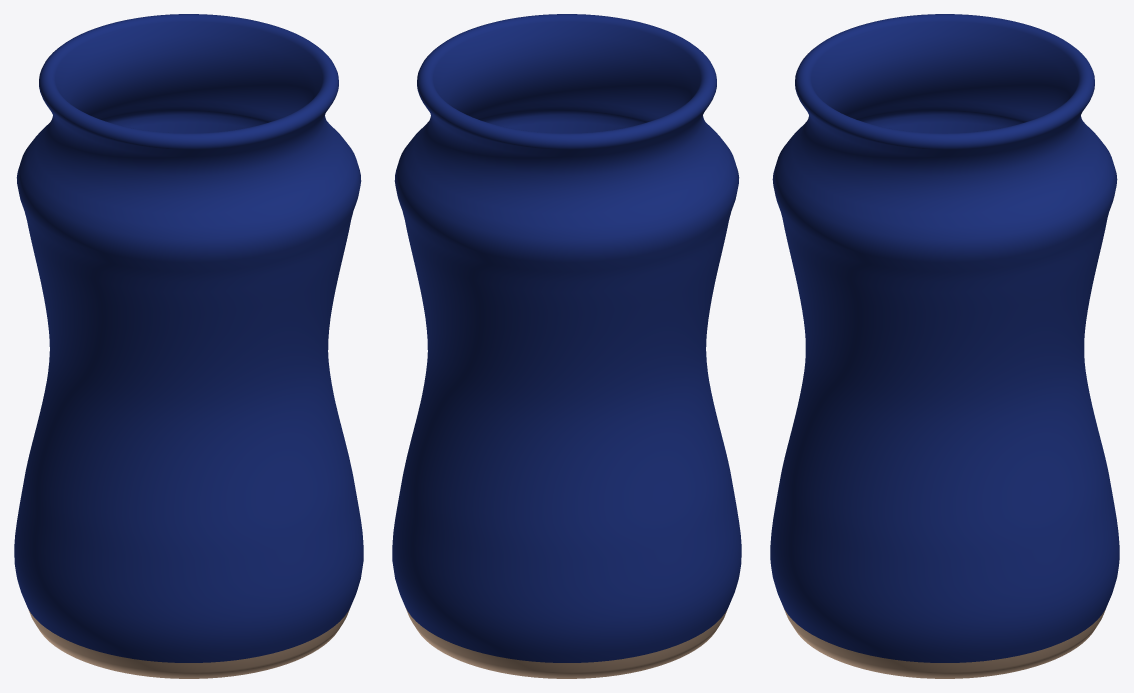
The model's file is albarelo.glb.
3 renders of one model, left to right at view 1: azimuth 30°, elevation 25°; view 2: azimuth 150°, elevation 25°; view 3: azimuth 270°, elevation 25°, orthographic.
Parts seen in each view (by area): view 1: albarelo; view 2: albarelo; view 3: albarelo.
Boxes of the visible parts, x1,y1,x2,y2 form: albarelo: (14, 14, 363, 678); albarelo: (392, 14, 741, 678); albarelo: (770, 14, 1119, 678).
Size of the model in its own units: 0.108 by 0.1845 by 0.108.
